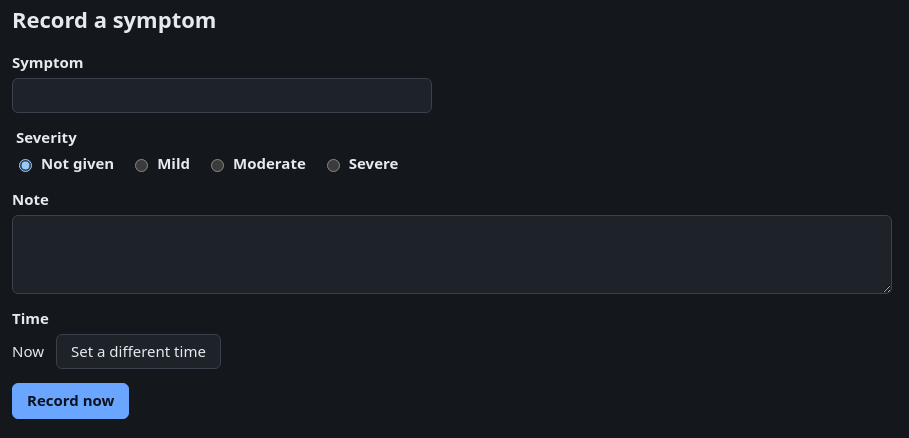
Test: the recording form › goes back to the current time when asked
Click the button "Set a different time" at (138, 352), box [56,334,221,369]
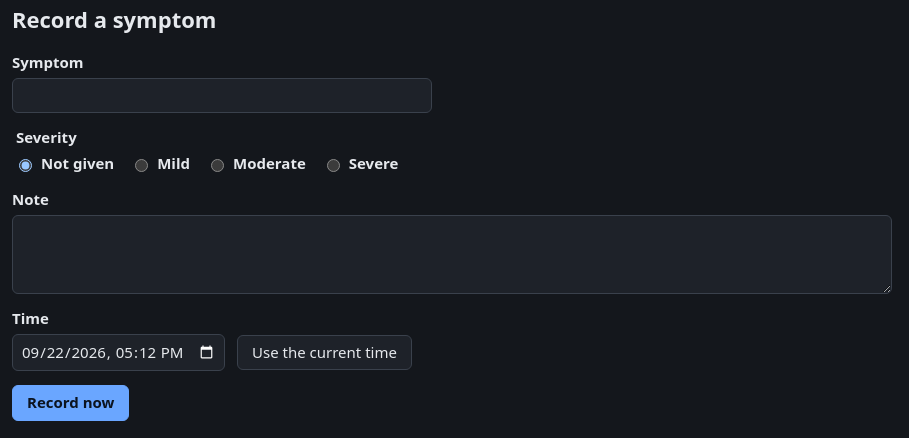
Expected: the field labelled "Time" is shown, [12,334,225,371]
Click the button "Use the current time" at (324, 352), box [237,335,412,370]
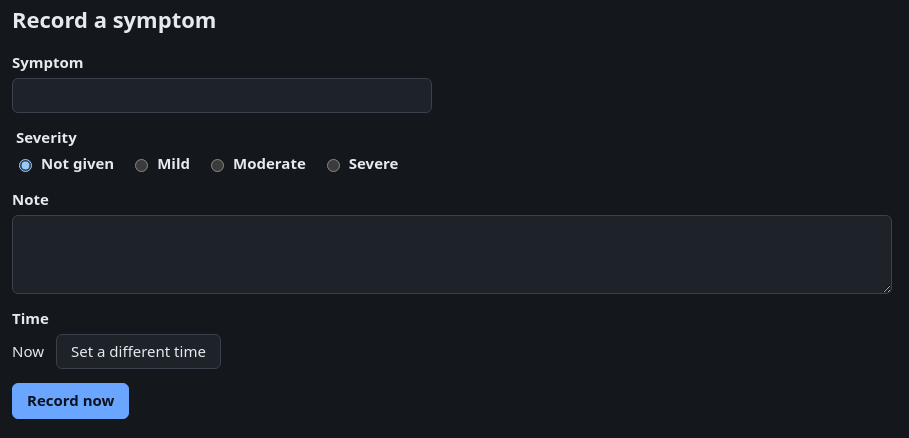
Expected: the text "Now" is shown, [12,341,44,362]
